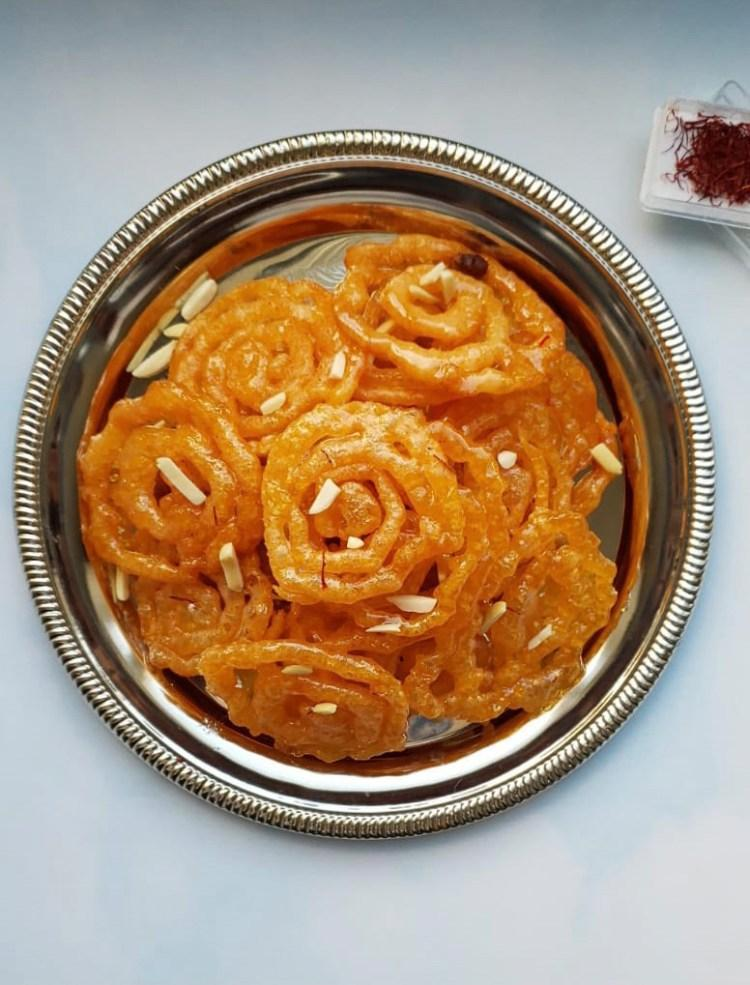jalebi: (105, 251, 638, 752)
